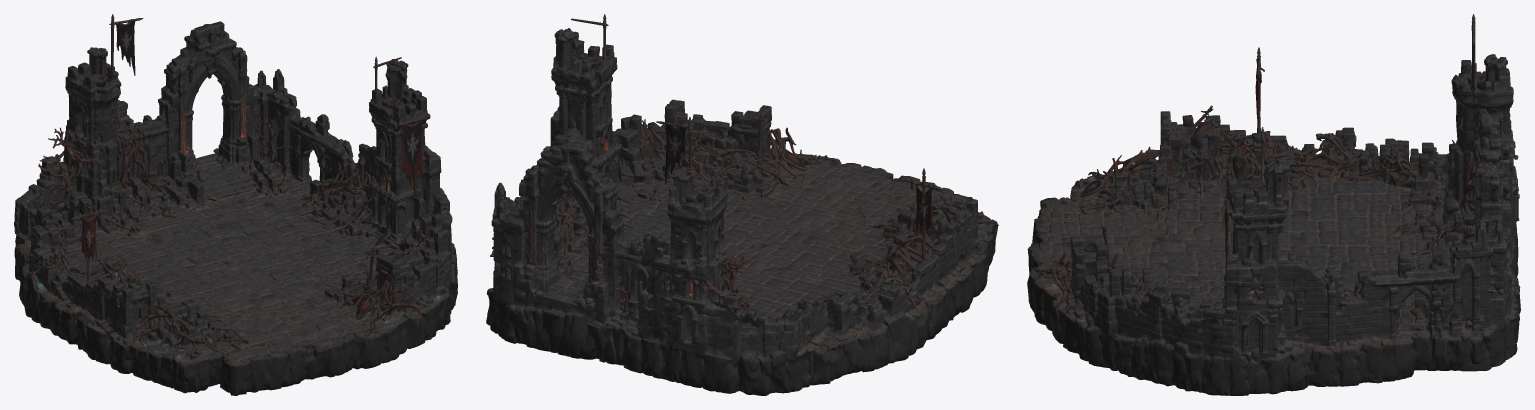
The model's file is battlefield_B_meshopt_webp.glb.
The picture shows the model from 3 angles, left to right: view 1: azimuth 30°, elevation 25°; view 2: azimuth 150°, elevation 25°; view 3: azimuth 270°, elevation 25°; orthographic projection. The views are drawn at different scales.
Bounding box in the file's own units: 1.88 × 1.1 × 1.9.
Materials: 1 (1 with a texture image).
